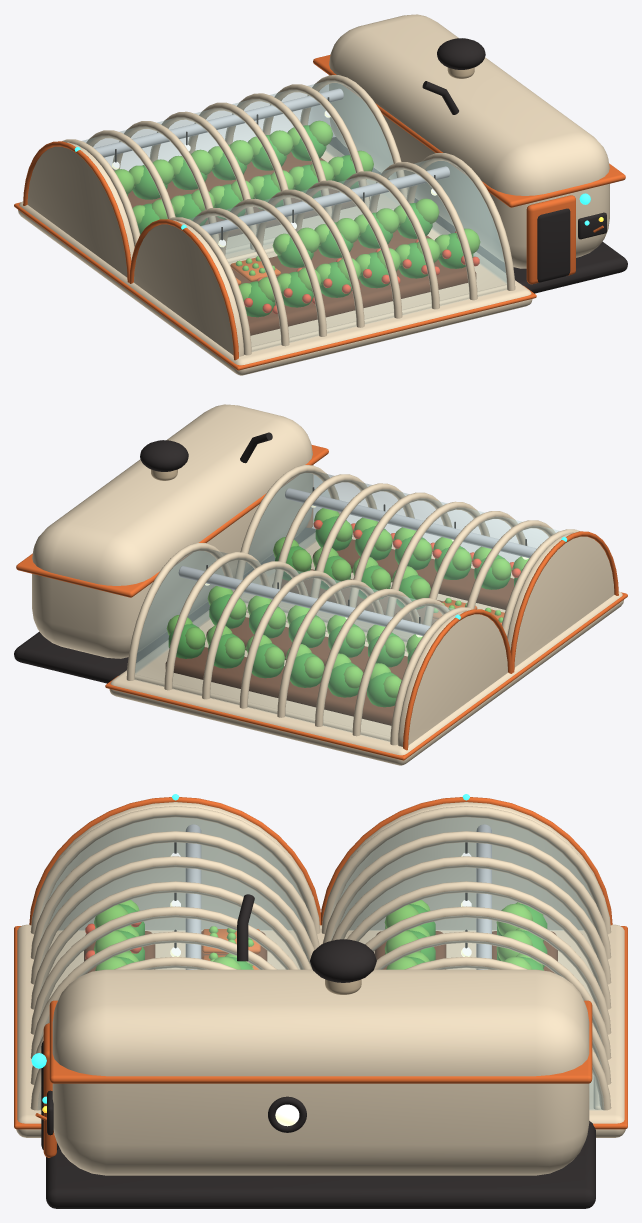
Rendered from greenhouse-20i.glb.
3 renders of one model, top to bottom at view 1: azimuth 30°, elevation 25°; view 2: azimuth 150°, elevation 25°; view 3: azimuth 270°, elevation 25°, orthographic. The views are drawn at different scales.
Visible parts, largest first — view 1: Cube.001, Cylinder, Sphere.002, Sphere.001, Cube.002, Cube.013, Cube.005, Cylinder.004, Sphere.045; view 2: Cube.001, Cylinder, Sphere.002, Sphere.001, Cube.005, Cube.002, Cube.013, Cylinder.004, Sphere.045; view 3: Cube.001, Cylinder, Cube.013, Cube.002, Sphere.002, Cylinder.004, Sphere.001, Cube.005.
Part boxes in pixels (x1,y1,x2,y2): Cube.001: (18, 14, 609, 375); Cylinder: (82, 81, 506, 351); Sphere.002: (114, 120, 480, 302); Sphere.001: (127, 125, 473, 317); Cube.002: (14, 55, 625, 370); Cube.013: (115, 38, 627, 293); Cube.005: (128, 152, 476, 335); Cylinder.004: (94, 88, 450, 235); Sphere.045: (244, 231, 479, 314); Cube.001: (32, 404, 623, 765); Cylinder: (135, 471, 559, 741); Sphere.002: (166, 508, 529, 698); Sphere.001: (168, 516, 522, 707); Cube.005: (165, 539, 514, 725); Cube.002: (16, 445, 627, 760); Cube.013: (14, 432, 526, 683); Cylinder.004: (178, 488, 536, 635); Sphere.045: (313, 520, 520, 577); Cube.001: (16, 802, 625, 1175); Cylinder: (38, 815, 603, 1110); Cube.013: (41, 842, 595, 1208); Cube.002: (14, 797, 627, 1157); Sphere.002: (94, 900, 543, 970); Cylinder.004: (185, 824, 491, 969); Sphere.001: (95, 903, 547, 970); Cube.005: (84, 931, 557, 973).
Bounding box in the file's own units: 2.87 × 1.14 × 2.75.
